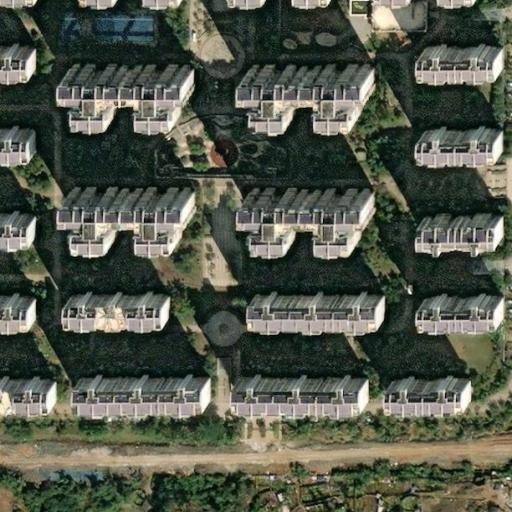building: (76, 68, 196, 118), (87, 201, 207, 251), (259, 190, 380, 239), (263, 65, 383, 114), (235, 366, 368, 400), (80, 370, 213, 404), (251, 294, 384, 328), (397, 372, 498, 403), (70, 292, 171, 322), (423, 288, 512, 319), (422, 47, 512, 77), (423, 132, 512, 162), (435, 217, 512, 246), (346, 498, 360, 512), (266, 494, 275, 505), (367, 498, 375, 505)
